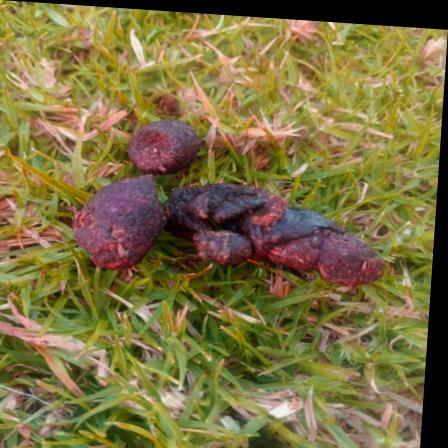dog-poop: (77, 115, 393, 287)
